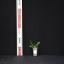leaf: (35, 42, 40, 48), (30, 40, 34, 47), (29, 46, 35, 48), (36, 45, 38, 48), (37, 46, 38, 48), (35, 44, 35, 47)
